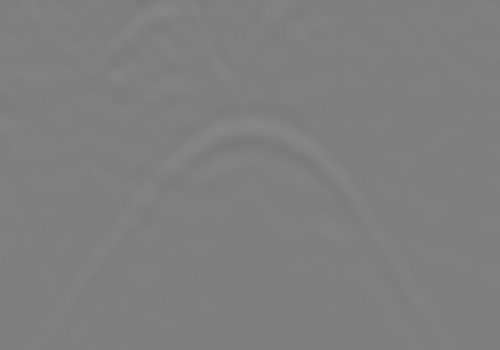hyperbola: (98, 112, 396, 261)
